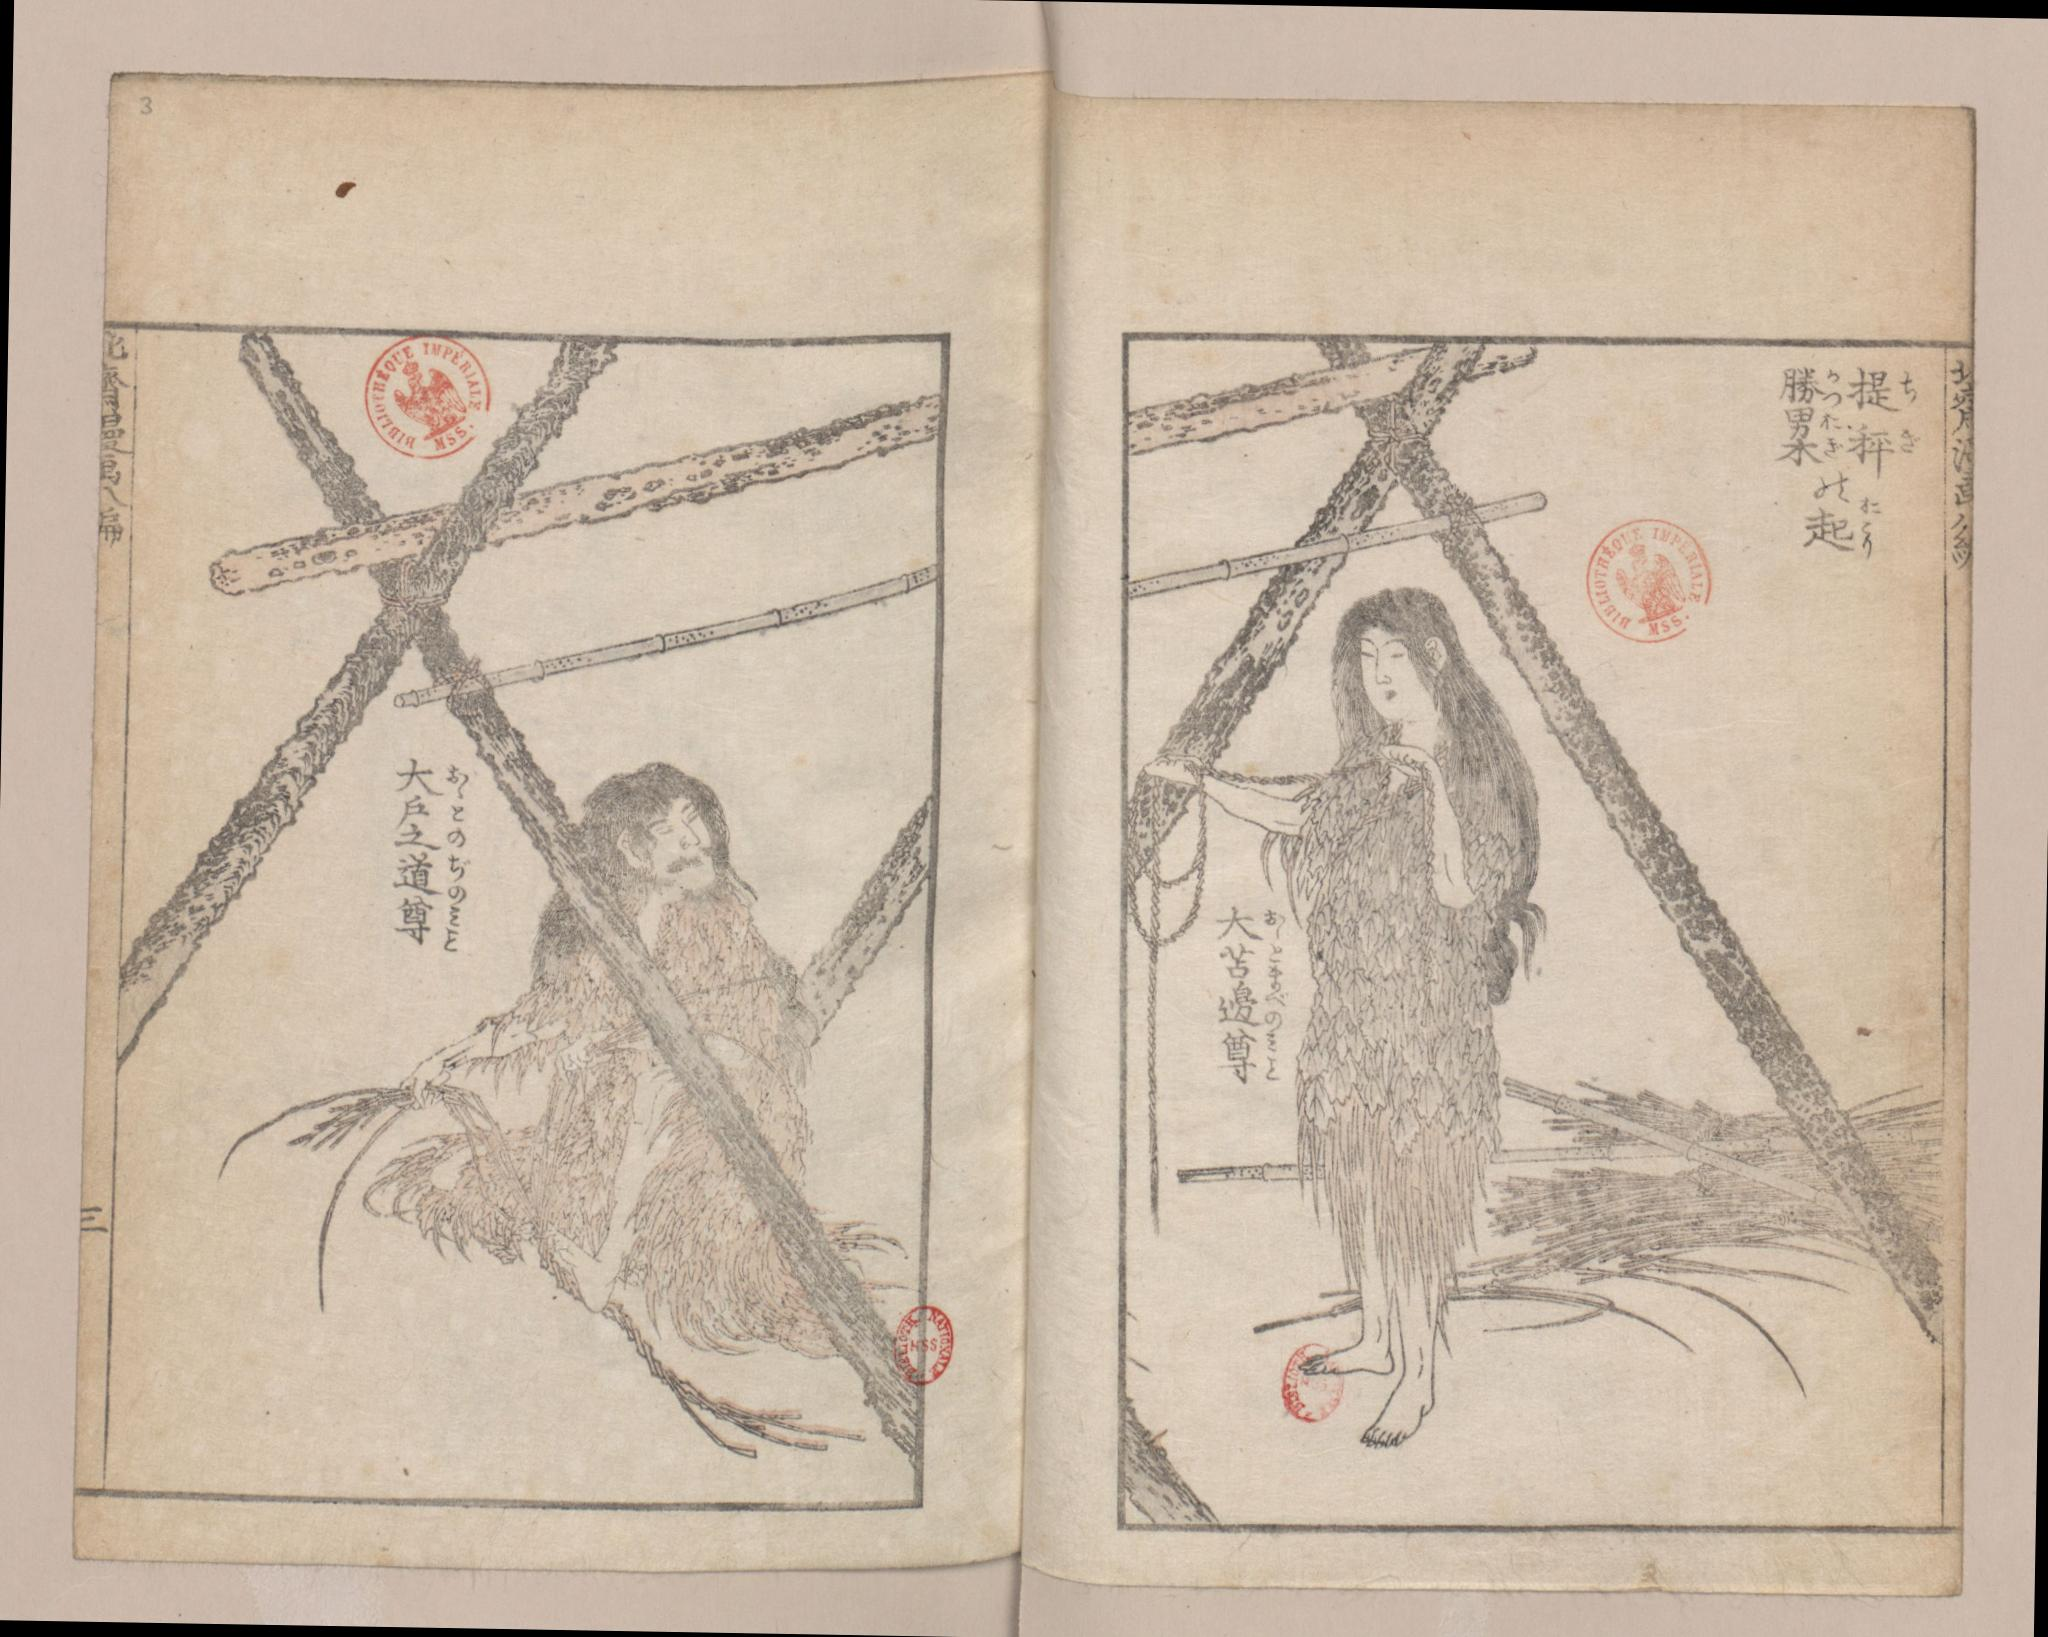MainZone-Character: (1213, 1027, 1286, 1082), (1209, 977, 1293, 1026), (1802, 513, 1884, 561), (399, 897, 468, 954), (1849, 421, 1918, 476), (1849, 356, 1919, 409), (394, 852, 469, 899), (398, 758, 473, 798), (1811, 473, 1884, 513), (1777, 359, 1844, 403), (393, 822, 473, 855), (1216, 905, 1291, 940), (1218, 944, 1286, 976), (1782, 403, 1843, 438), (396, 795, 468, 824), (1776, 438, 1846, 463)
MainZone-Ruby: (436, 900, 464, 952), (1263, 982, 1288, 1026), (444, 855, 468, 897), (1858, 518, 1878, 561), (1263, 1032, 1281, 1079), (444, 760, 469, 792), (1265, 944, 1285, 974), (1822, 369, 1843, 399), (1899, 371, 1918, 403), (1263, 910, 1286, 934), (1899, 424, 1916, 453), (446, 824, 466, 847), (1861, 496, 1883, 514), (1821, 409, 1839, 429), (1821, 439, 1839, 456), (448, 802, 463, 820)
